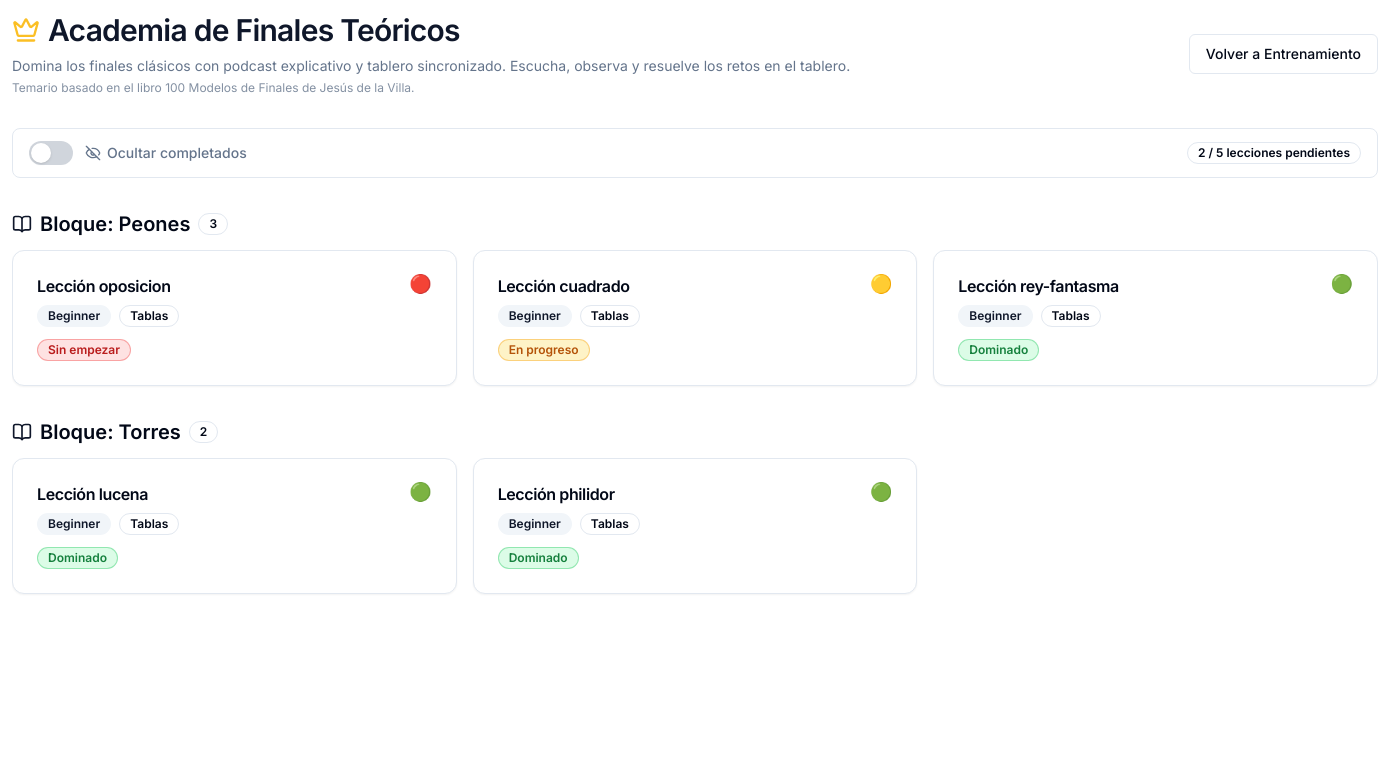
Test: EndgameCatalogPage — filtro de ocultar completadas › al desactivar el filtro vuelven a aparecer todas las lecciones
This screenshot has width=1390, height=780.
Expected: the heading "Lección oposicion" is shown, [37,275,171,297]
Click the switch at (51, 153), box [29,141,73,165]
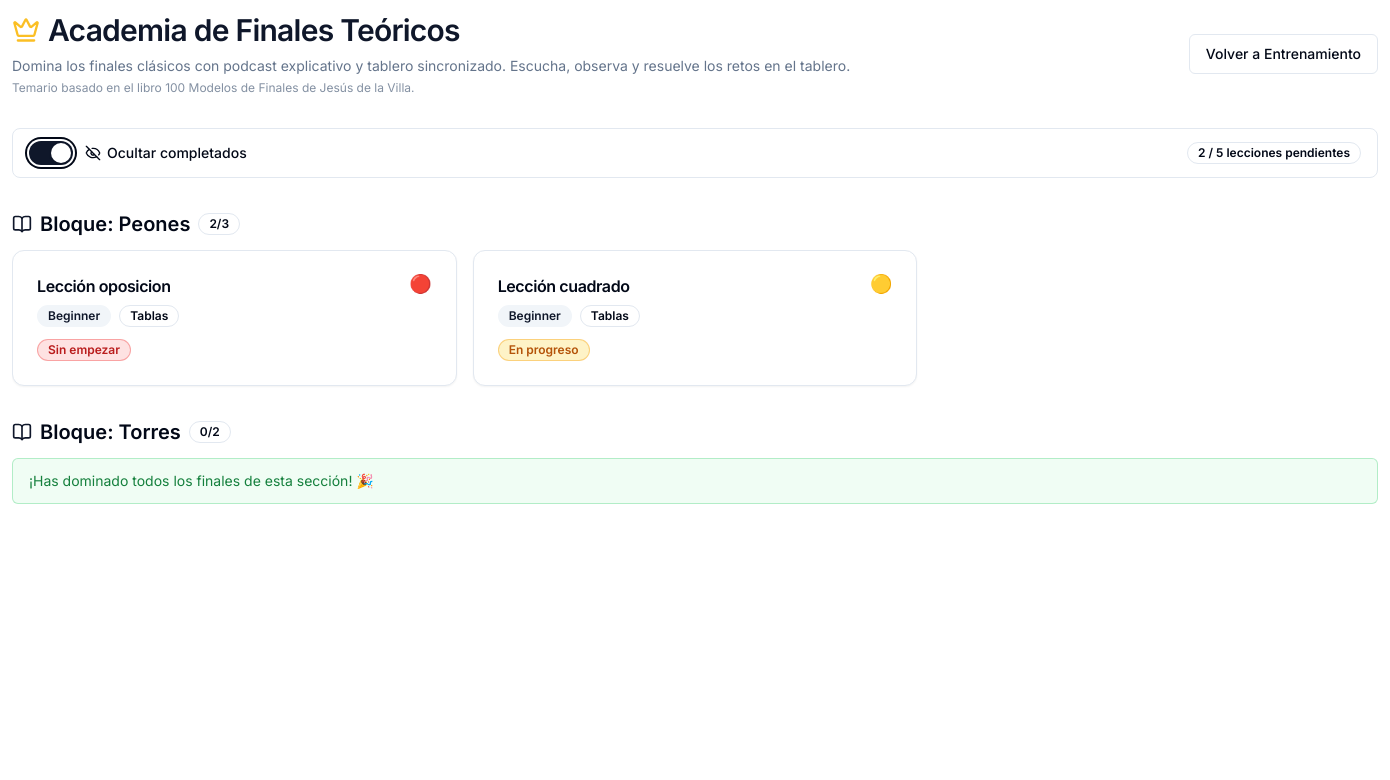
Expected: the link "Lección rey-fantasma" is gone
Click the switch at (51, 153), box [29,141,73,165]
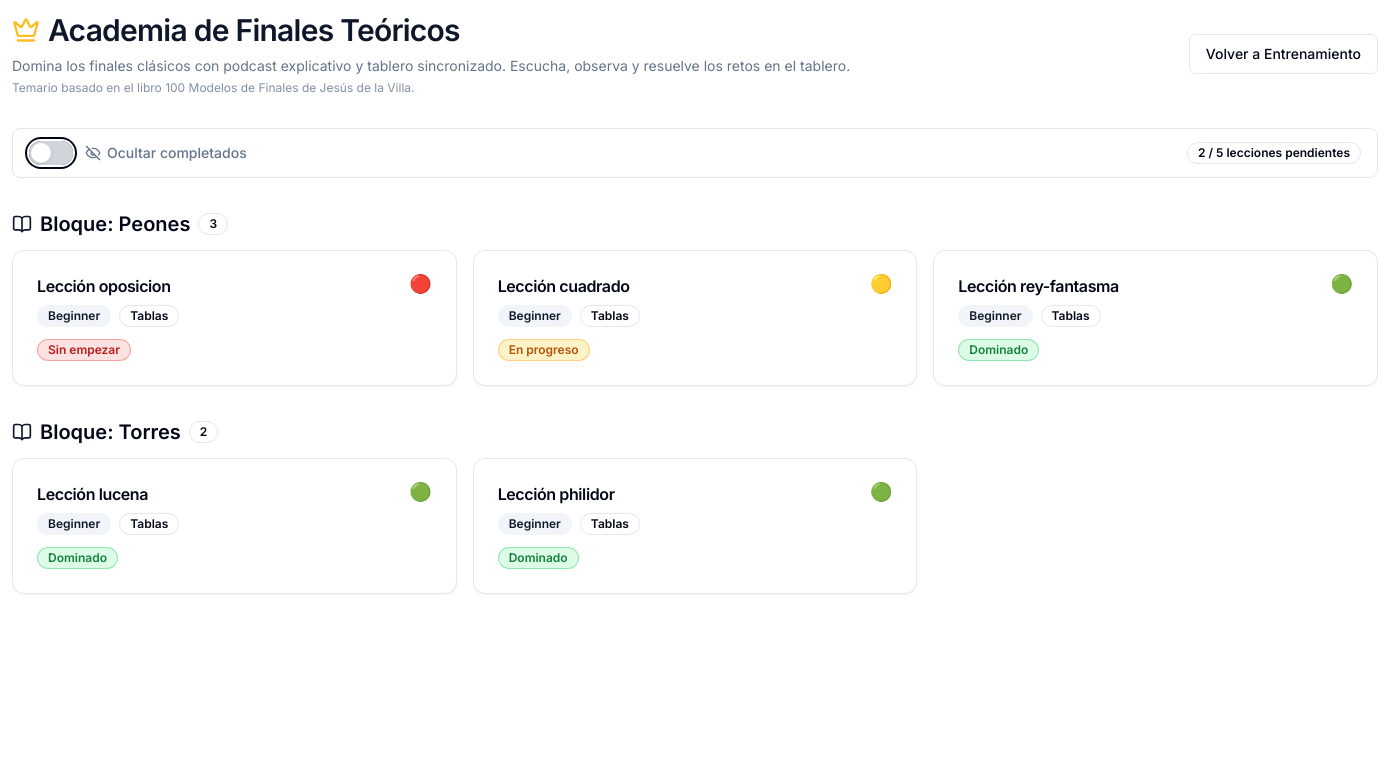
Expected: the heading "Lección rey-fantasma" is shown, [958,275,1119,297]
